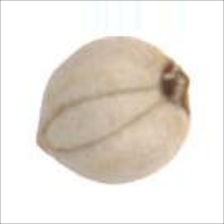L5: (34, 84, 161, 154), (159, 57, 193, 119)
L6: (35, 34, 192, 187)
